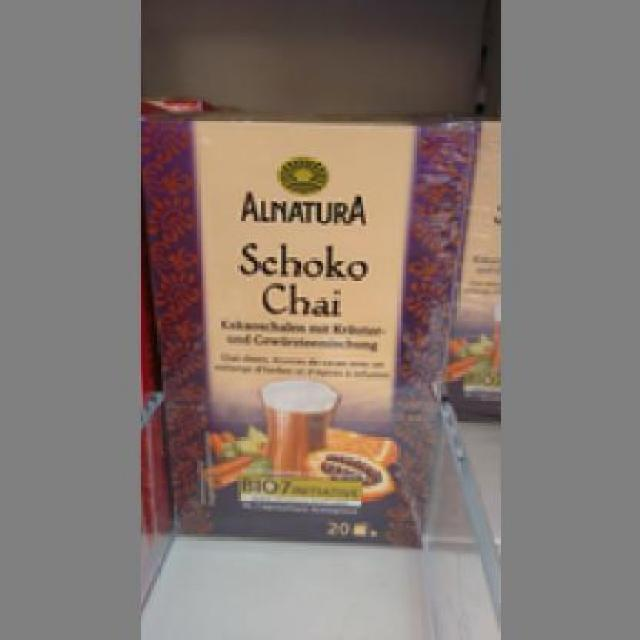Tea: (137, 109, 472, 546)
